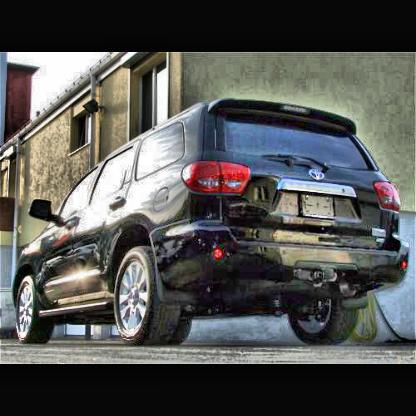Toyota Sequoia SUV 2012: (10, 99, 412, 356)
